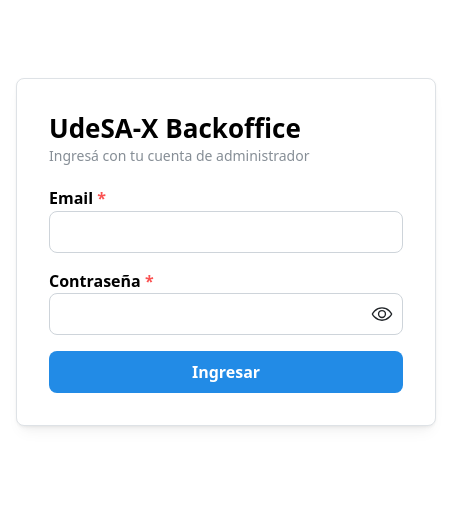
Test: LoginPage › tells a regular user this account has no access
The width and height of the screenshot is (453, 508).
expect the button "Ingresar" is shown: met, box top-left (49, 352), bottom-right (403, 394)
Type "alumno@udesa.edu.ar" into the field labelled "Email *" at (226, 232), box top-left (49, 211), bottom-right (403, 253)
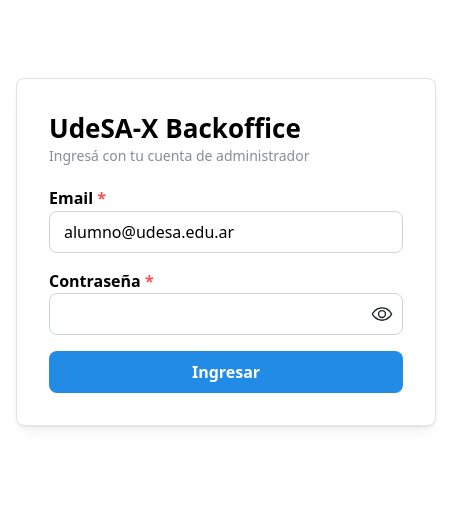
Type "Contrasena1" into the password field labelled "Contraseña *" at (226, 314), box top-left (50, 294), bottom-right (402, 334)
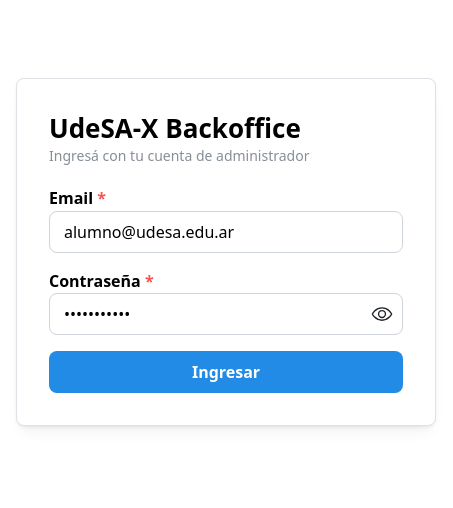
Click the button "Ingresar" at (226, 372), box top-left (49, 352), bottom-right (403, 394)
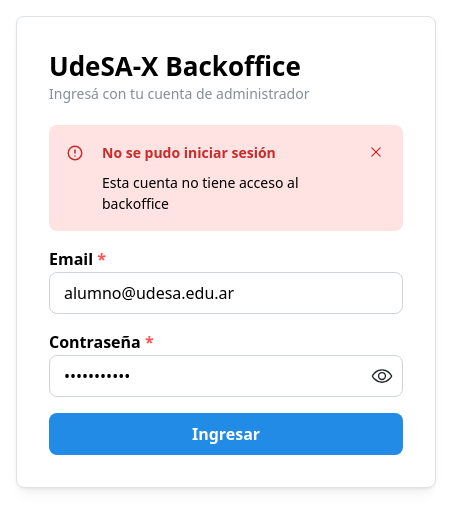
expect the message shows "no tiene acceso al backoffice": met, box top-left (102, 173), bottom-right (298, 213)
